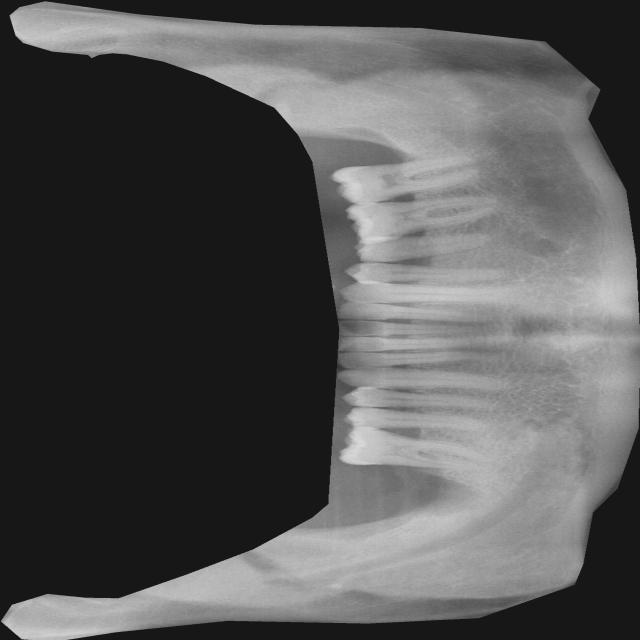mandibula: (1, 0, 640, 640)
